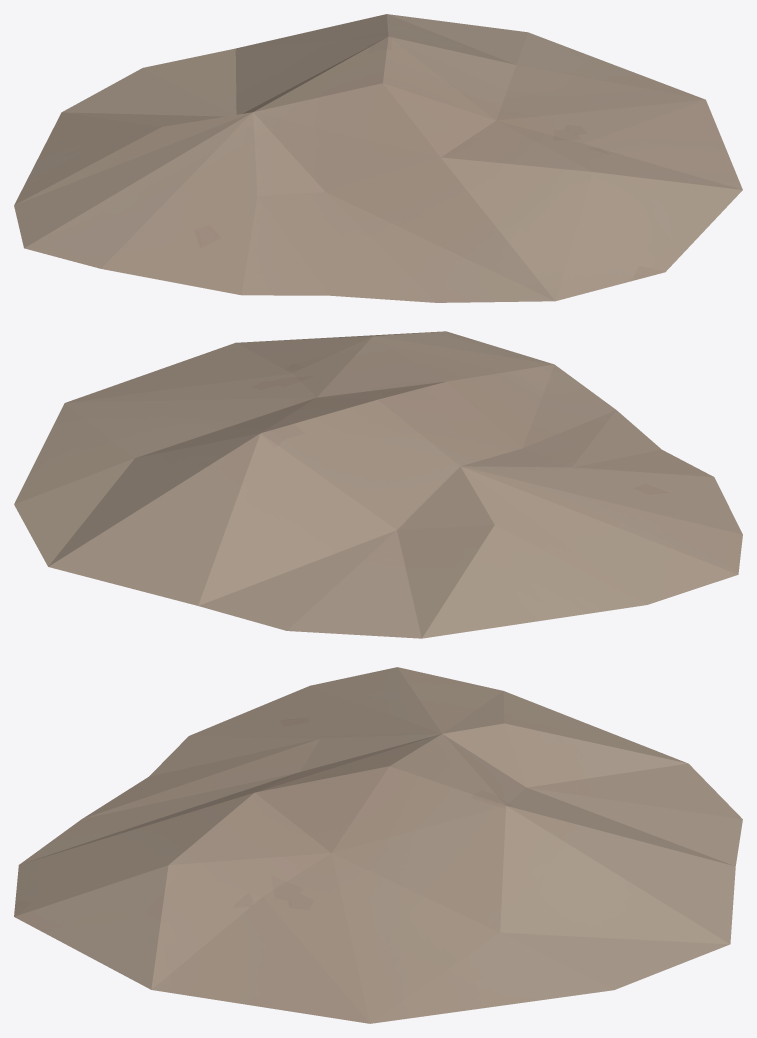
File: SM_Env_Sand_Pile_01.fbx
3 views of the same model, one above another, from view 1: azimuth 30°, elevation 25°; view 2: azimuth 150°, elevation 25°; view 3: azimuth 270°, elevation 25° (orthographic). The views are drawn at different scales.
Visible parts, largest first — view 1: SM_Env_Sand_Pile_01; view 2: SM_Env_Sand_Pile_01; view 3: SM_Env_Sand_Pile_01.
Part boxes in pixels (x1,y1,x2,y2): SM_Env_Sand_Pile_01: (14,14,742,302); SM_Env_Sand_Pile_01: (14,331,742,638); SM_Env_Sand_Pile_01: (14,667,742,1023).
Bounding box in the file's own units: 316 × 41.96 × 277.
